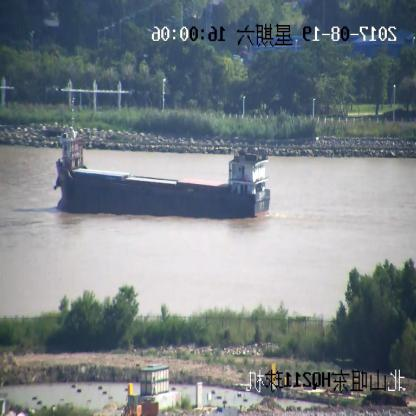Bulk Carrier: (53, 122, 271, 218)
